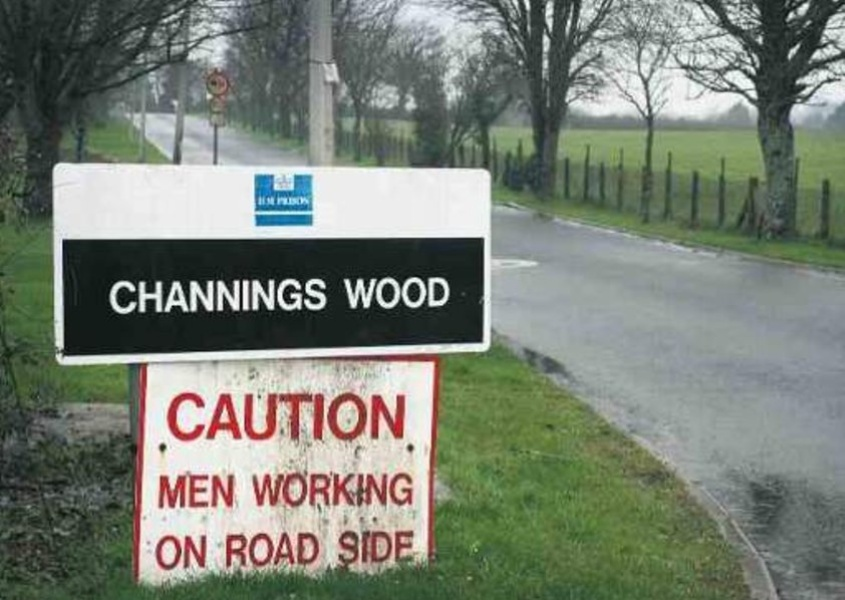text: (177, 391, 192, 442), (193, 391, 208, 442), (209, 391, 224, 442), (225, 391, 240, 442), (241, 391, 256, 442), (257, 391, 272, 442), (273, 391, 288, 442), (289, 391, 304, 442), (305, 391, 320, 442), (321, 391, 336, 442), (337, 391, 352, 442), (353, 391, 368, 442), (369, 391, 384, 442), (385, 391, 400, 442), (113, 276, 128, 316), (129, 276, 144, 316), (145, 276, 160, 316), (161, 276, 176, 316), (177, 276, 192, 316), (193, 276, 208, 316), (209, 276, 224, 316), (225, 276, 240, 316), (241, 276, 256, 316), (257, 276, 272, 316), (273, 276, 288, 316), (289, 276, 304, 316), (305, 276, 320, 316), (353, 273, 368, 312), (369, 273, 384, 312), (385, 273, 400, 312), (401, 273, 416, 312), (417, 273, 432, 312), (433, 273, 448, 312), (161, 533, 176, 571), (177, 533, 192, 571), (193, 533, 208, 571), (241, 531, 256, 569), (257, 531, 272, 569), (273, 531, 288, 569), (289, 531, 304, 569), (305, 531, 320, 569), (161, 473, 176, 509), (177, 473, 192, 509), (193, 473, 208, 509), (209, 473, 224, 509), (226, 531, 240, 569), (257, 472, 272, 507), (273, 472, 288, 507), (289, 472, 304, 507), (305, 472, 320, 507), (321, 472, 336, 507), (337, 472, 352, 507), (353, 472, 368, 507), (369, 472, 384, 507), (385, 472, 400, 507), (337, 531, 352, 564), (353, 531, 368, 564), (369, 531, 384, 564), (385, 531, 400, 564), (401, 531, 416, 564), (401, 472, 415, 507), (225, 473, 236, 509), (343, 273, 352, 312), (321, 276, 329, 316), (170, 391, 176, 442), (401, 391, 406, 442), (449, 273, 454, 312), (257, 195, 272, 208), (273, 195, 288, 208), (289, 195, 304, 208), (155, 533, 160, 571), (251, 472, 256, 507), (109, 276, 112, 316), (305, 195, 313, 208), (209, 533, 210, 571), (321, 531, 322, 569), (159, 473, 160, 509)
